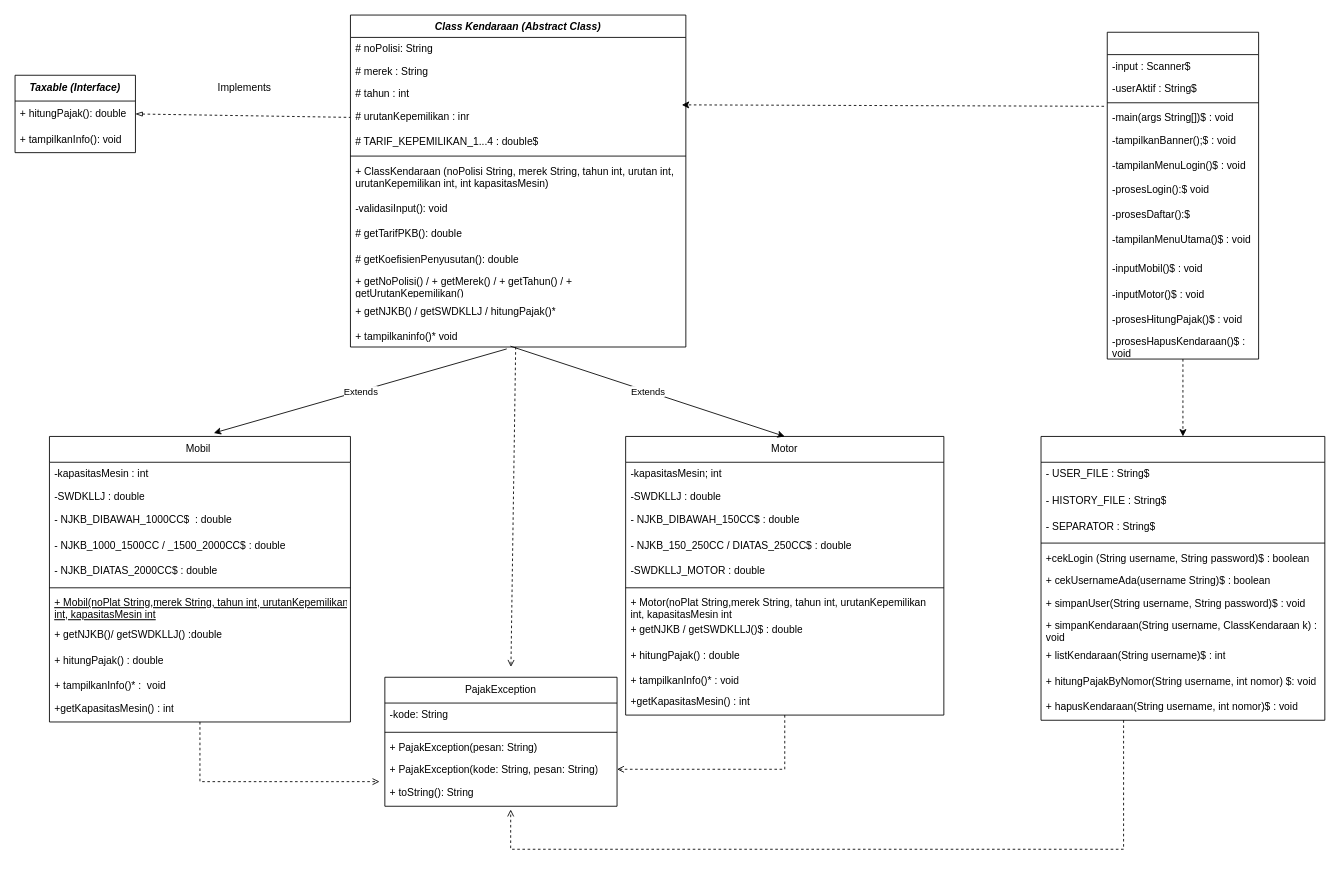
Some shapes in this 1340 by 871 pixel diagram are drawn without their labels. The shapes that lost their labels are listed below. From the top down, each one's box as (x1, y1, x2, y2) in pixels, then its label:
(1106, 31, 1259, 359): HalamanUtama
(1040, 436, 1325, 720): FileRepository2
